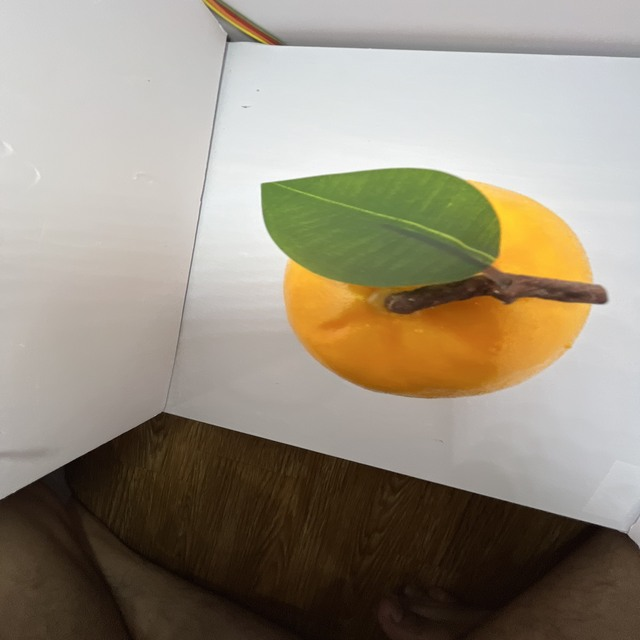Cam vang: (275, 174, 599, 403)
